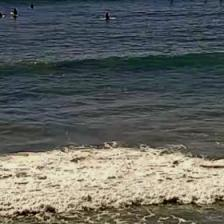surfer: (12, 8, 19, 16), (105, 12, 111, 21), (30, 3, 35, 10), (0, 12, 5, 19)
